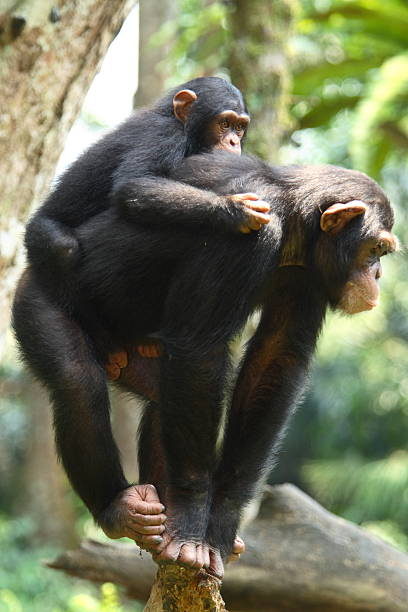chimpanzee: (289, 150, 408, 341)
